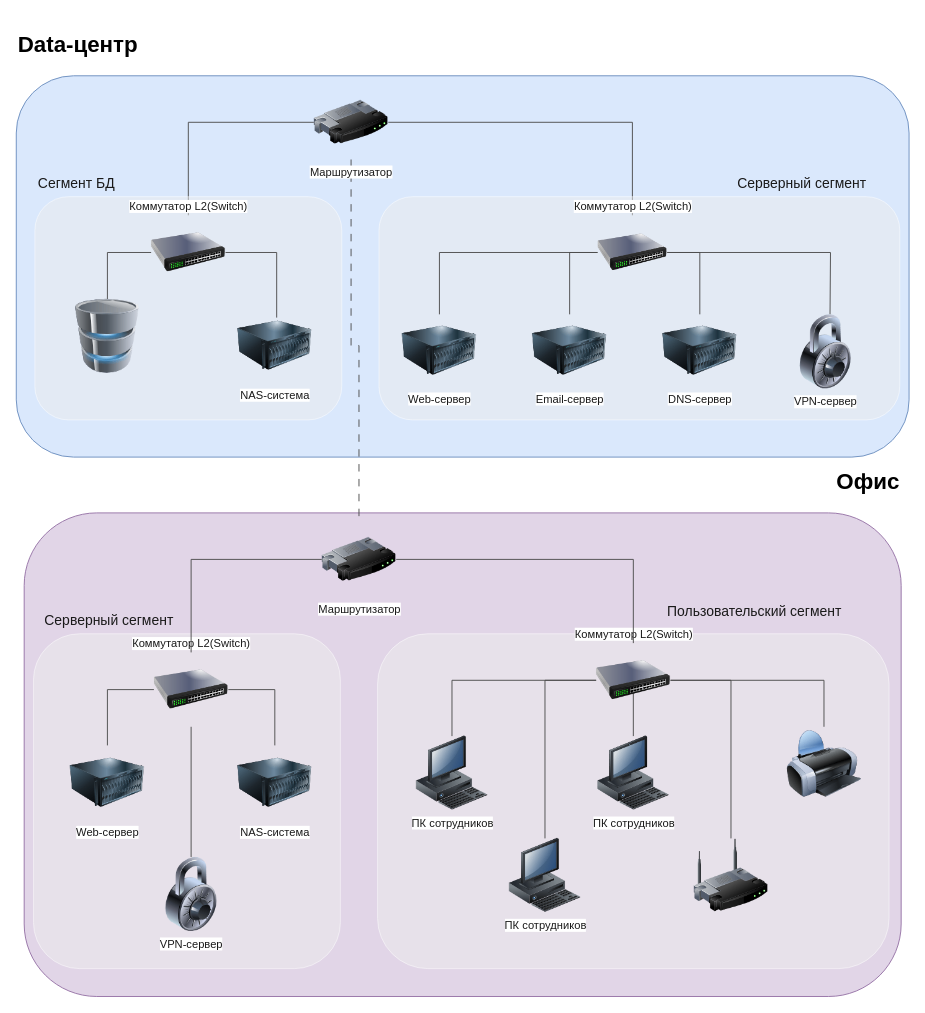
Some shapes in this 925 by 1013 pixel diagram are drawn without their labels. The shapes that lost their labels are listed below. From the top down, each one's centre as x and y in pixels, then its label:
At pixel 107 336: "DB-сервер".
At pixel 823 763: "МФУ".
At pixel 730 875: "Access Point".
